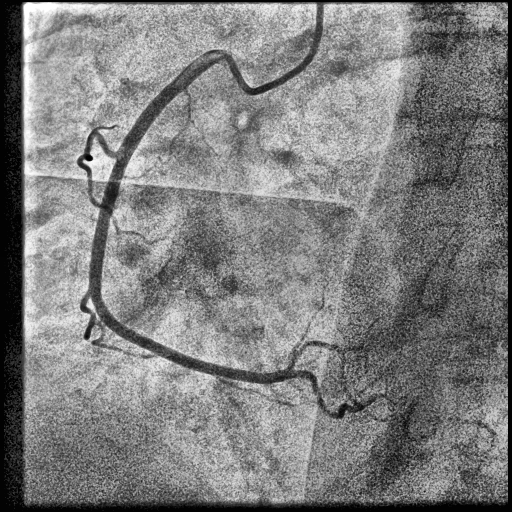pborca: (286, 341, 343, 369)
pda: (292, 370, 364, 419)
rca: (89, 51, 293, 384)
